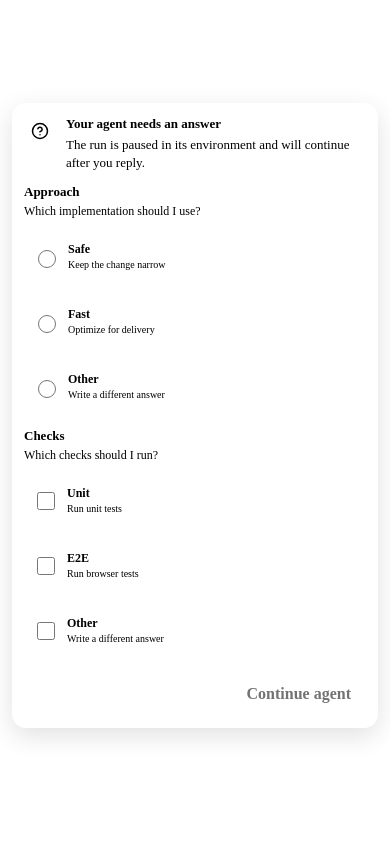
Scenario: UserInputPromptCard › keeps the prompt and shows an error when delivery fails
What coordinates should you click on to do the following:
click the radio button labelled "Fast Optimize for delivery"
I would click on:
 (47, 324)
Its box is 38,315 -> 56,333.
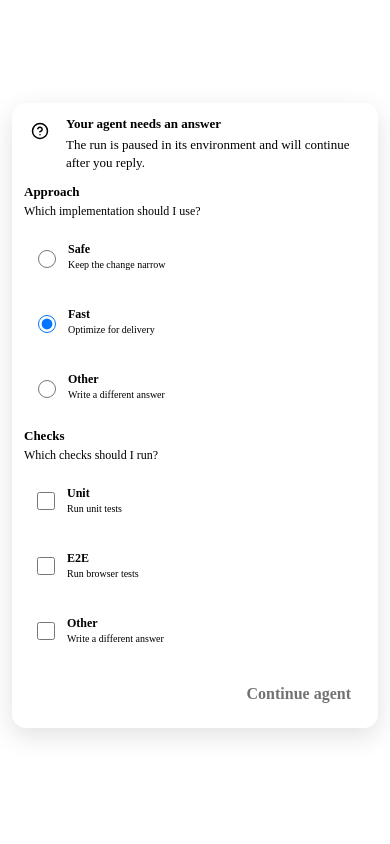
What coordinates should you click on to do the following:
click the checkbox labelled "E2E Run browser tests"
I would click on:
 (46, 566)
Its box is 37,557 -> 55,575.
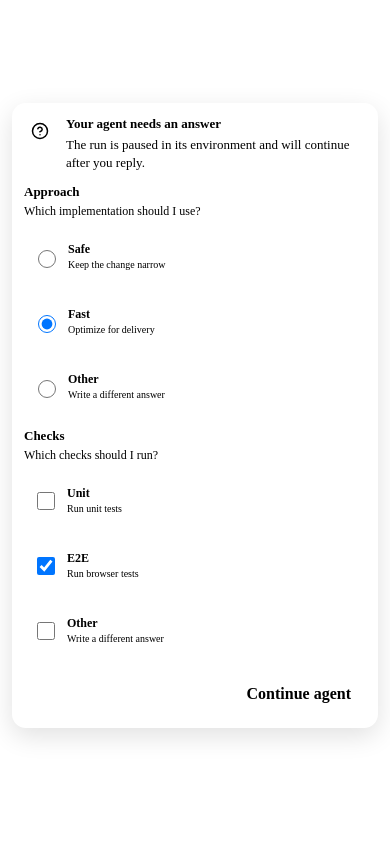
What coordinates should you click on to do the following:
click the button "Continue agent"
I would click on:
 (299, 694)
Its box is 232,672 -> 366,716.
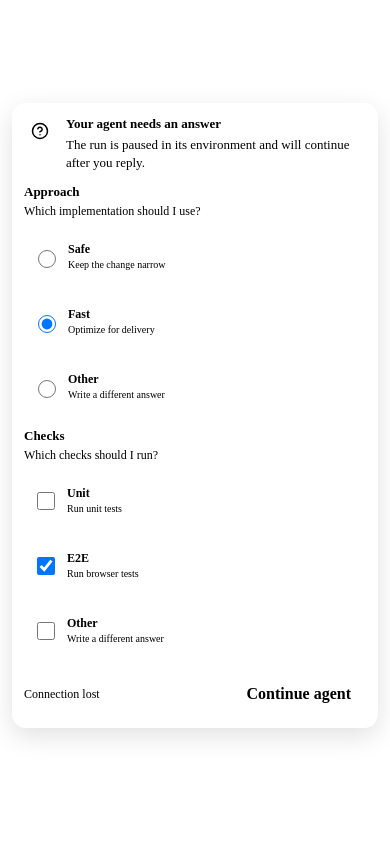
Result: the message reads "Connection lost" at 24,686 -> 100,700
